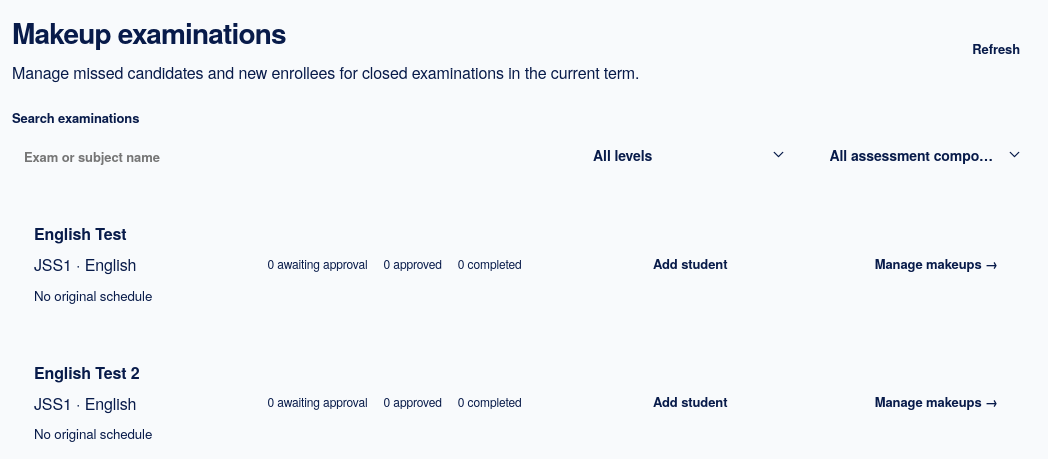
shows only backend-eligible current-term exams and filters assessment components
This screenshot has width=1048, height=459.
Check: the heading "English Test 2" is shown, box [34,361,152,384]
Step 1. Click the dropdown labelled "assessment component" → (926, 155), box [816,132,1036,178]
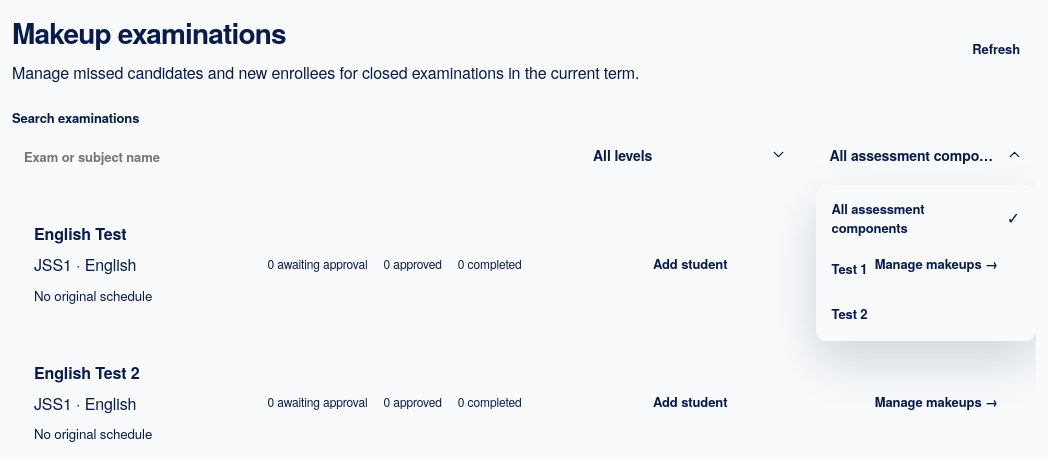
Step 2. Click the option "Test 1" → (926, 269), box [822,248,1030,290]
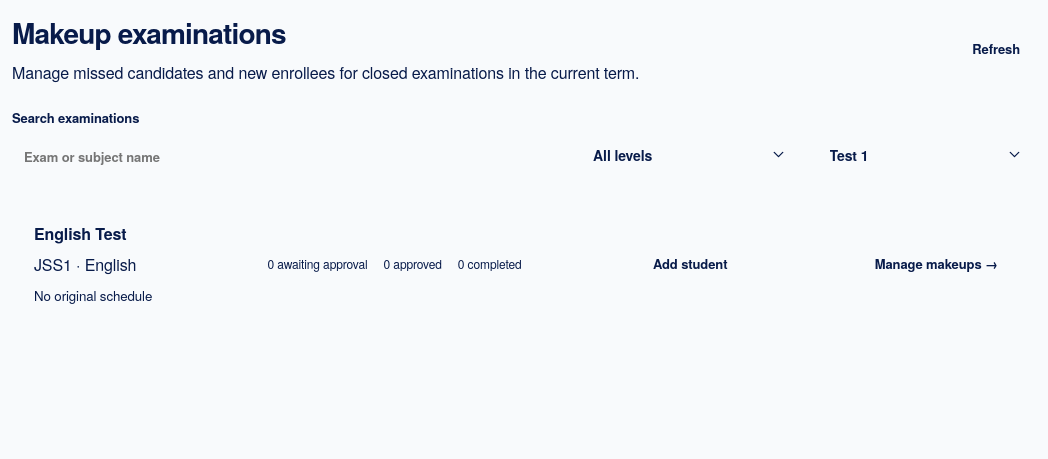
Check: the heading "English Test" is shown, box [34,222,126,245]
Check: the heading "English Test 2" is gone
